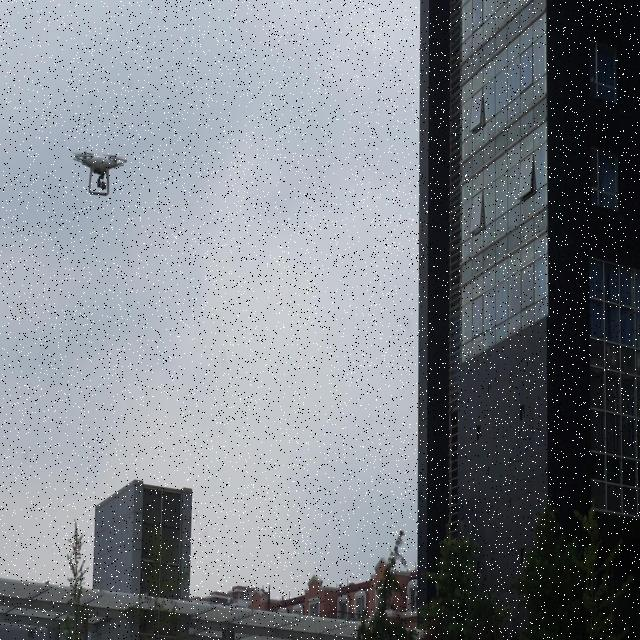UAV: (72, 151, 127, 196)
